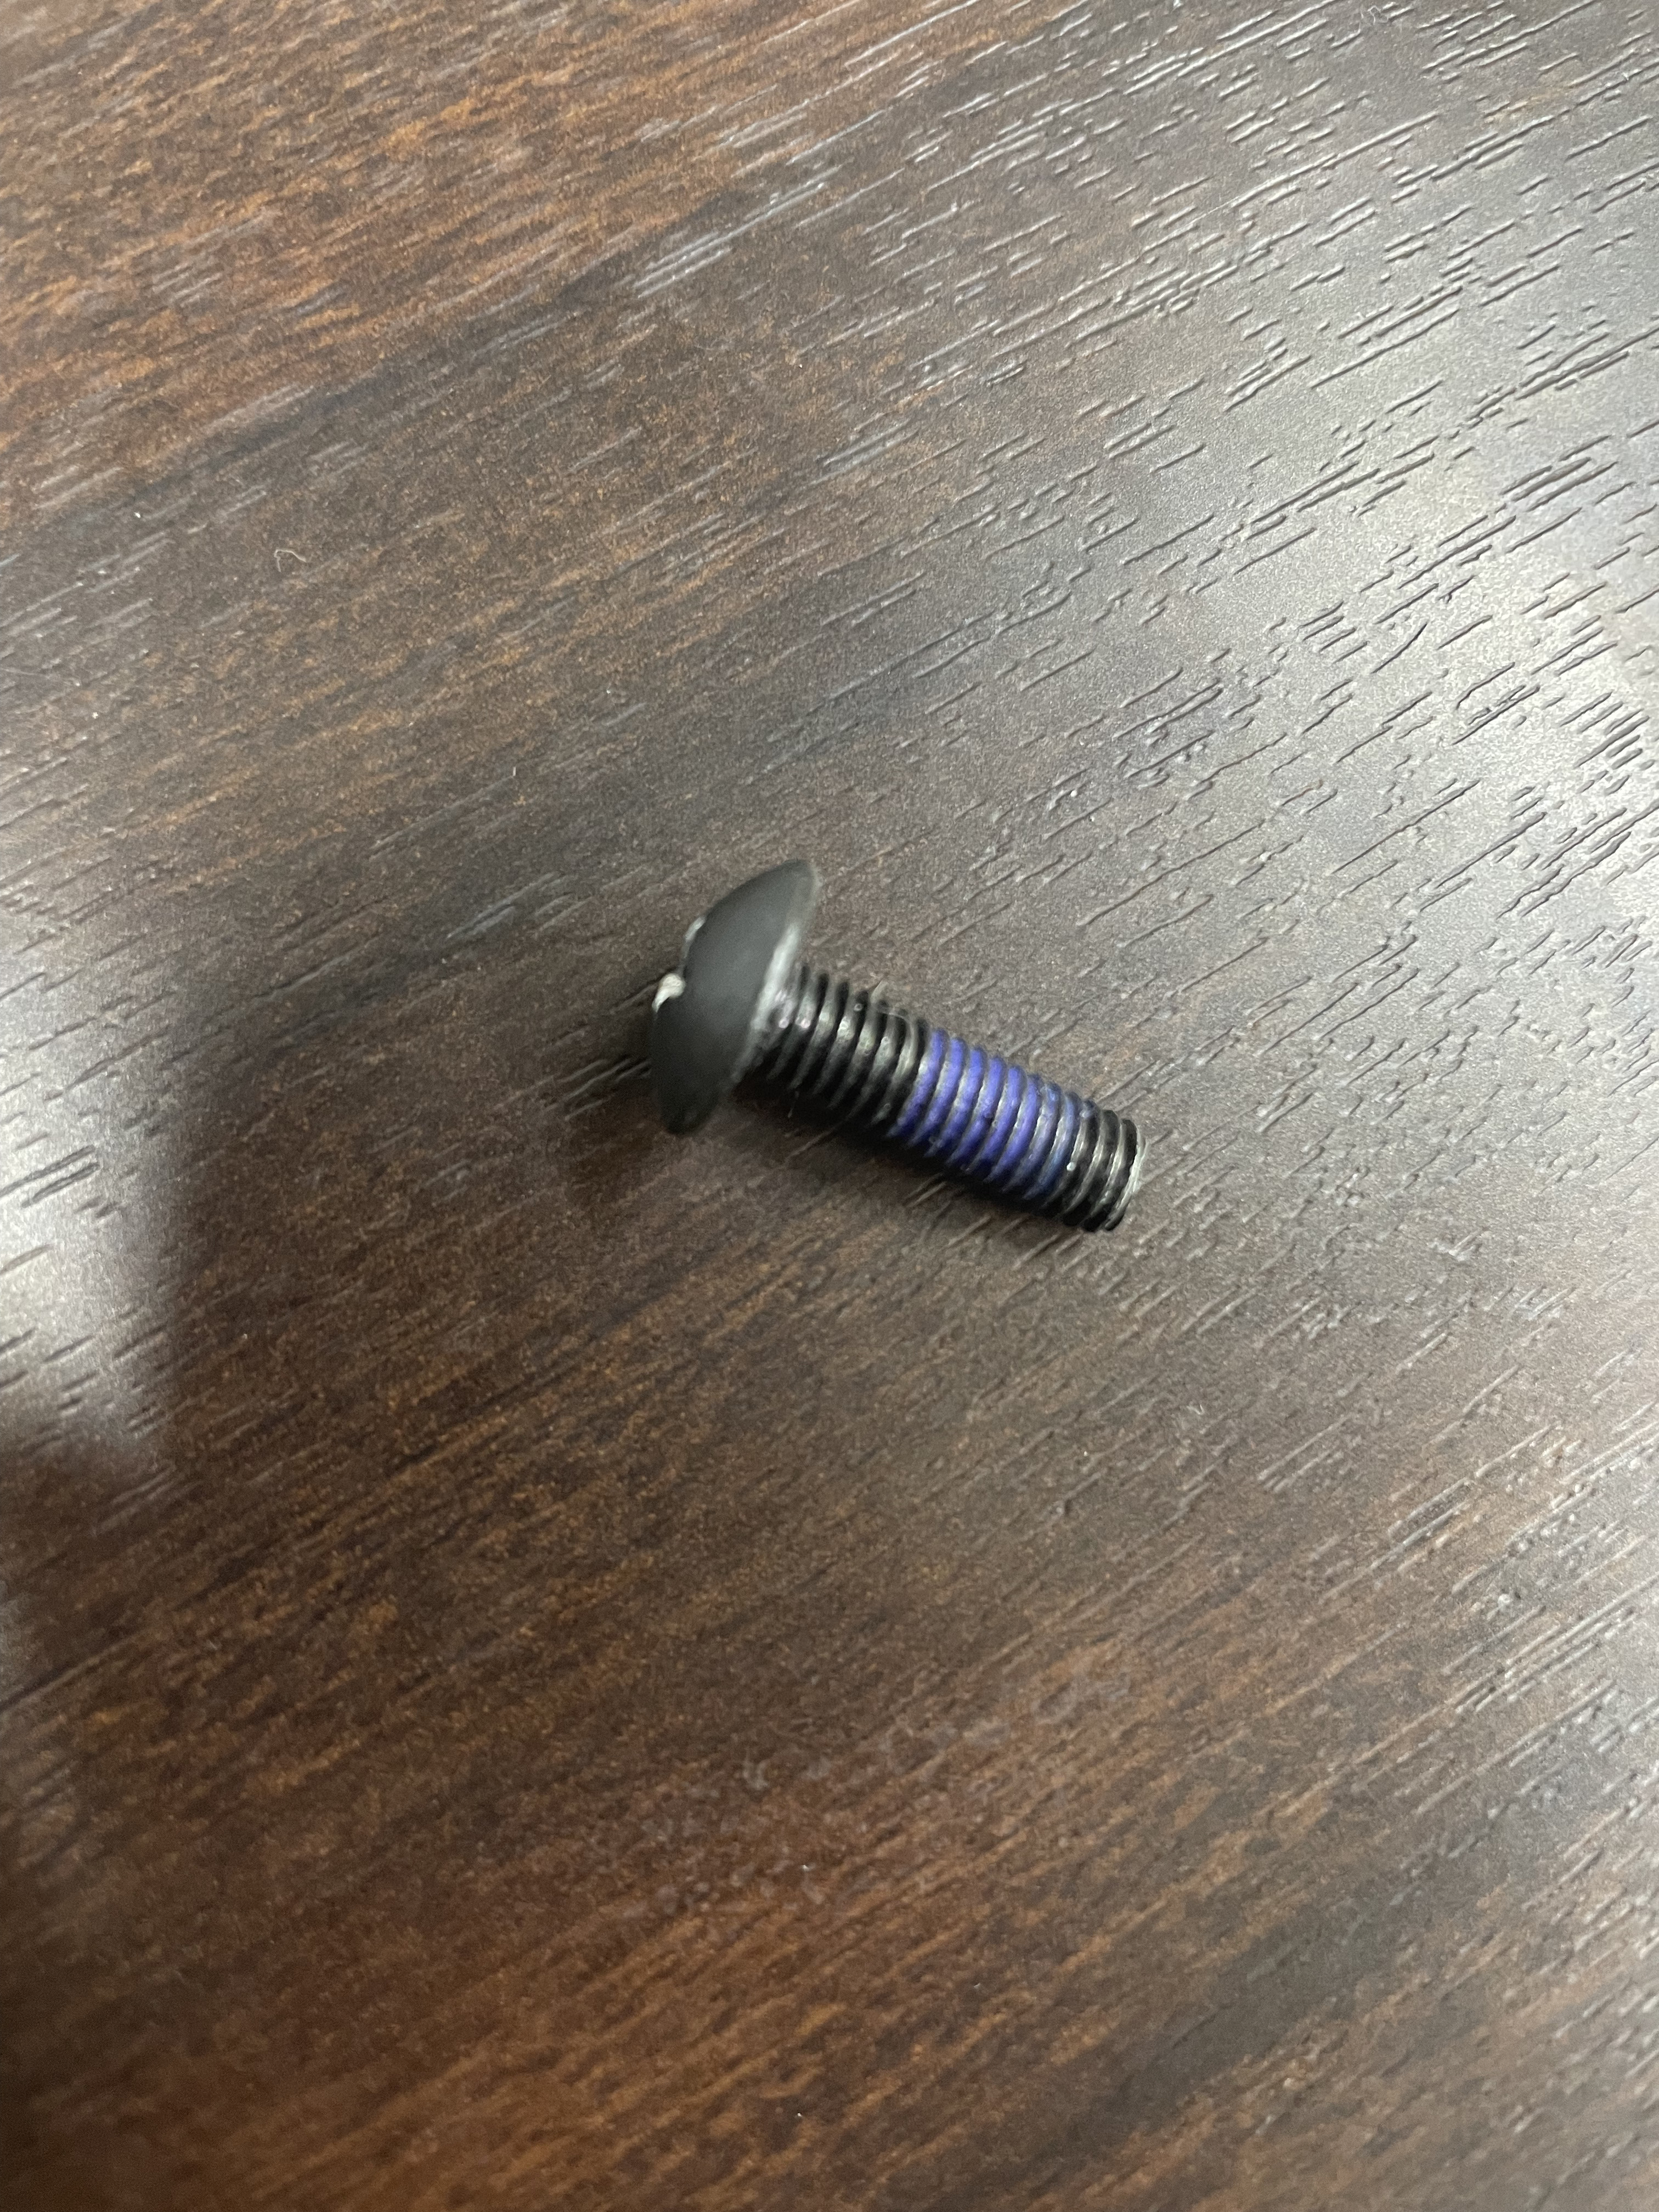screw1: (644, 859, 1150, 1243)
